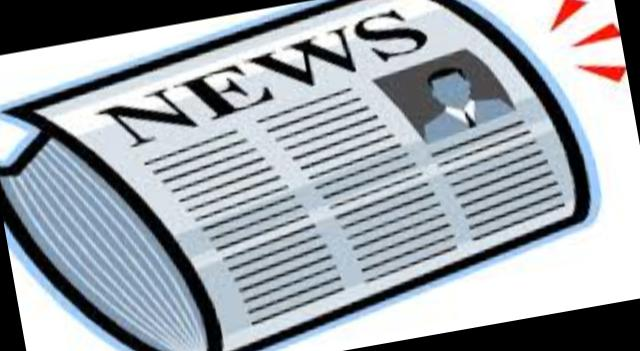cardboard paper: (0, 0, 593, 351)
